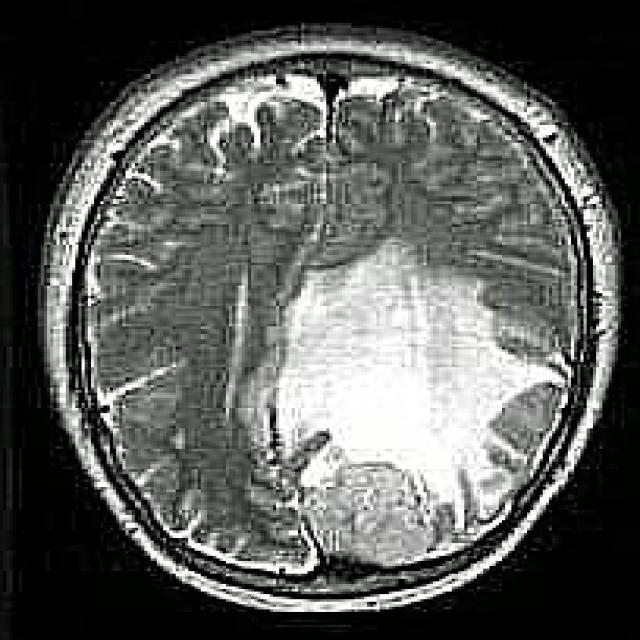Tumor-Cell: (261, 242, 537, 521)
